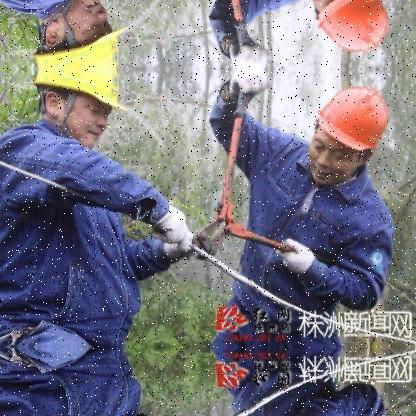Helmet: (295, 84, 390, 189), (30, 67, 132, 154), (26, 0, 128, 63), (304, 0, 392, 70)
